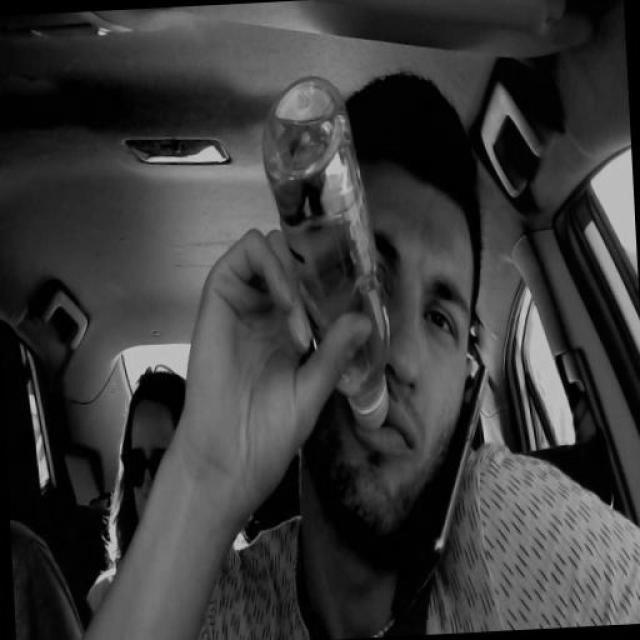Drinking: (260, 71, 397, 433)
Phone: (429, 360, 491, 555)
